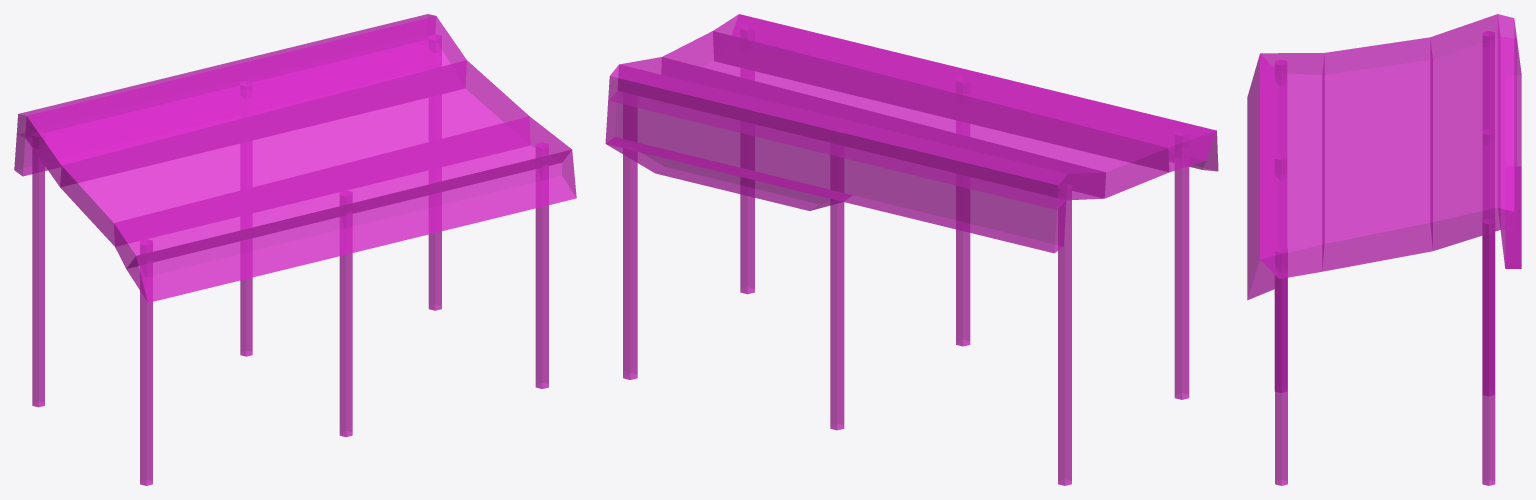
The model's file is SM_Prop_Awning_04_Collision.fbx.
3 views of the same model, side by side, from view 1: azimuth 30°, elevation 25°; view 2: azimuth 150°, elevation 25°; view 3: azimuth 270°, elevation 25° (orthographic). The views are drawn at different scales.
Visible parts, largest first — view 1: SM_Prop_Awning_04_Collision; view 2: SM_Prop_Awning_04_Collision; view 3: SM_Prop_Awning_04_Collision.
Part boxes in pixels (bbox=[...]): SM_Prop_Awning_04_Collision: bbox=[14, 14, 576, 485]; SM_Prop_Awning_04_Collision: bbox=[605, 14, 1218, 485]; SM_Prop_Awning_04_Collision: bbox=[1247, 14, 1521, 485].
Bounding box in the file's own units: 524 × 330 × 295.
